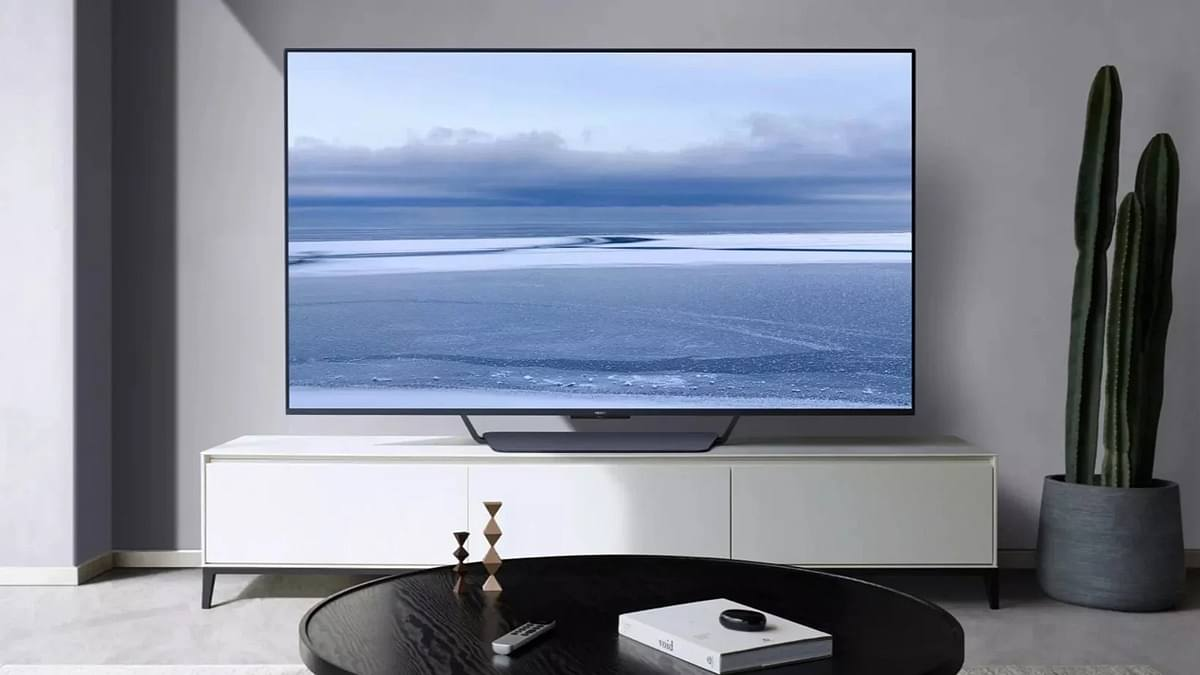buku: (613, 591, 835, 673)
meja: (295, 548, 976, 675)
tanaman: (1025, 60, 1190, 614)
tv: (255, 36, 958, 452)
